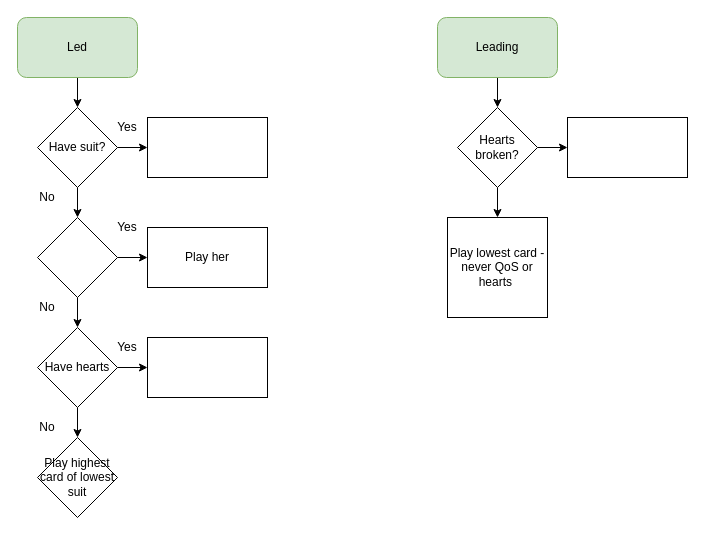
This 705x535 diagram has some shape labels left out. The centre of each missing label's shape, as x and y in pixels:
"Have QoS?" belongs at (77,257).
"Play hearts card under 5" belongs at (627,147).
"Play highest point value hearts" belongs at (207,367).
"Play next lowest card than what's on board never QoS unless no choice" belongs at (207,147).
